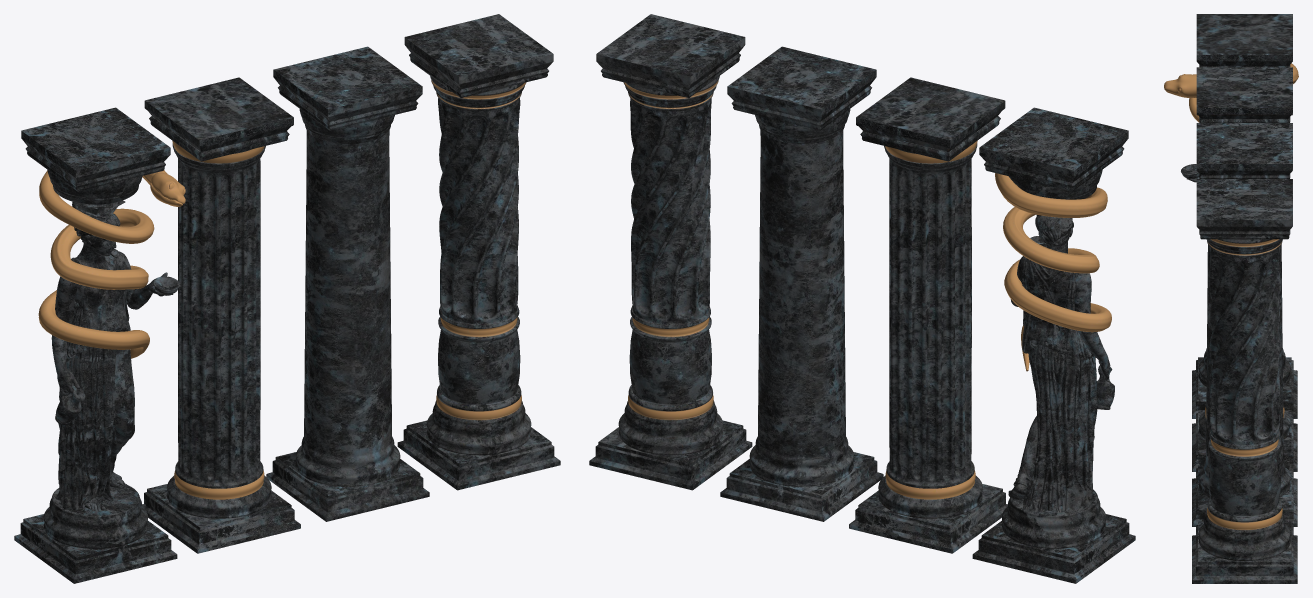
Rendered from اربع اعمده مختلفة.glb.
3 renders of one model, left to right at view 1: azimuth 30°, elevation 25°; view 2: azimuth 150°, elevation 25°; view 3: azimuth 270°, elevation 25°, orthographic. The views are drawn at different scales.
Parts seen in each view (by area): view 1: object 4, object 6, object 5, object 2, Hebe_0, Spiral_2; view 2: object 4, object 6, object 5, object 2, Hebe_0, Spiral_2; view 3: object 5, object 4, object 6, object 2, Spiral_2, Hebe_0.
Part boxes in pixels (left/top/right/bottom): object 4: left=266, top=46, right=429, bottom=521; object 6: left=142, top=77, right=300, bottom=553; object 5: left=397, top=14, right=560, bottom=490; object 2: left=14, top=107, right=177, bottom=583; Hebe_0: left=51, top=213, right=179, bottom=511; Spiral_2: left=38, top=170, right=185, bottom=358; object 4: left=720, top=46, right=883, bottom=521; object 6: left=849, top=77, right=1007, bottom=553; object 5: left=589, top=14, right=752, bottom=490; object 2: left=972, top=107, right=1135, bottom=583; Hebe_0: left=1008, top=215, right=1114, bottom=512; Spiral_2: left=995, top=173, right=1111, bottom=371; object 5: left=1192, top=179, right=1297, bottom=583; object 4: left=1192, top=123, right=1297, bottom=526; object 6: left=1192, top=67, right=1297, bottom=471; object 2: left=1192, top=14, right=1297, bottom=418; Spiral_2: left=1164, top=63, right=1298, bottom=122; Hebe_0: left=1181, top=164, right=1199, bottom=182.
Size of the model in its own units: 4.89 by 3.93 by 1.32.
Materials: 6 (6 with a texture image).
